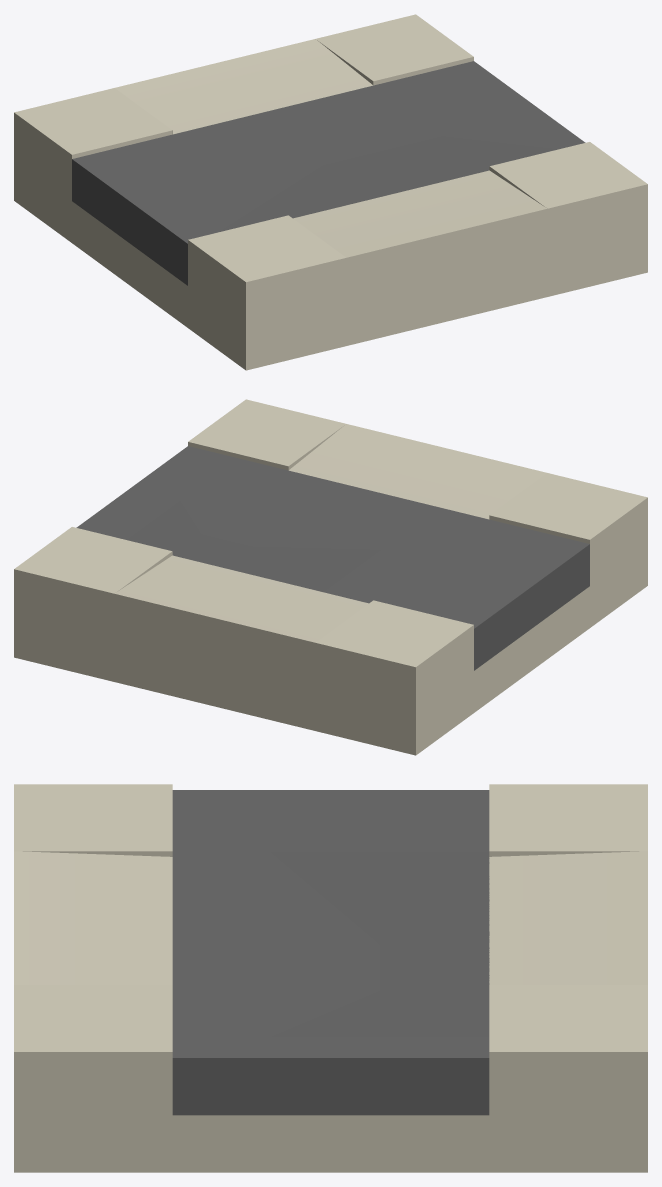
File: roadTile_279.obj
3 renders of one model, top to bottom at view 1: azimuth 30°, elevation 25°; view 2: azimuth 150°, elevation 25°; view 3: azimuth 270°, elevation 25°, orthographic. The views are drawn at different scales.
Parts seen in each view (by area): view 1: Mesh1 Group1 Model; view 2: Mesh1 Group1 Model; view 3: Mesh1 Group1 Model.
Boxes of the visible parts, x1=… form: Mesh1 Group1 Model: x1=14, y1=14, x2=647, y2=370; Mesh1 Group1 Model: x1=14, y1=399, x2=647, y2=755; Mesh1 Group1 Model: x1=14, y1=784, x2=647, y2=1172.
Size of the model in its own units: 3 by 0.63 by 3.
